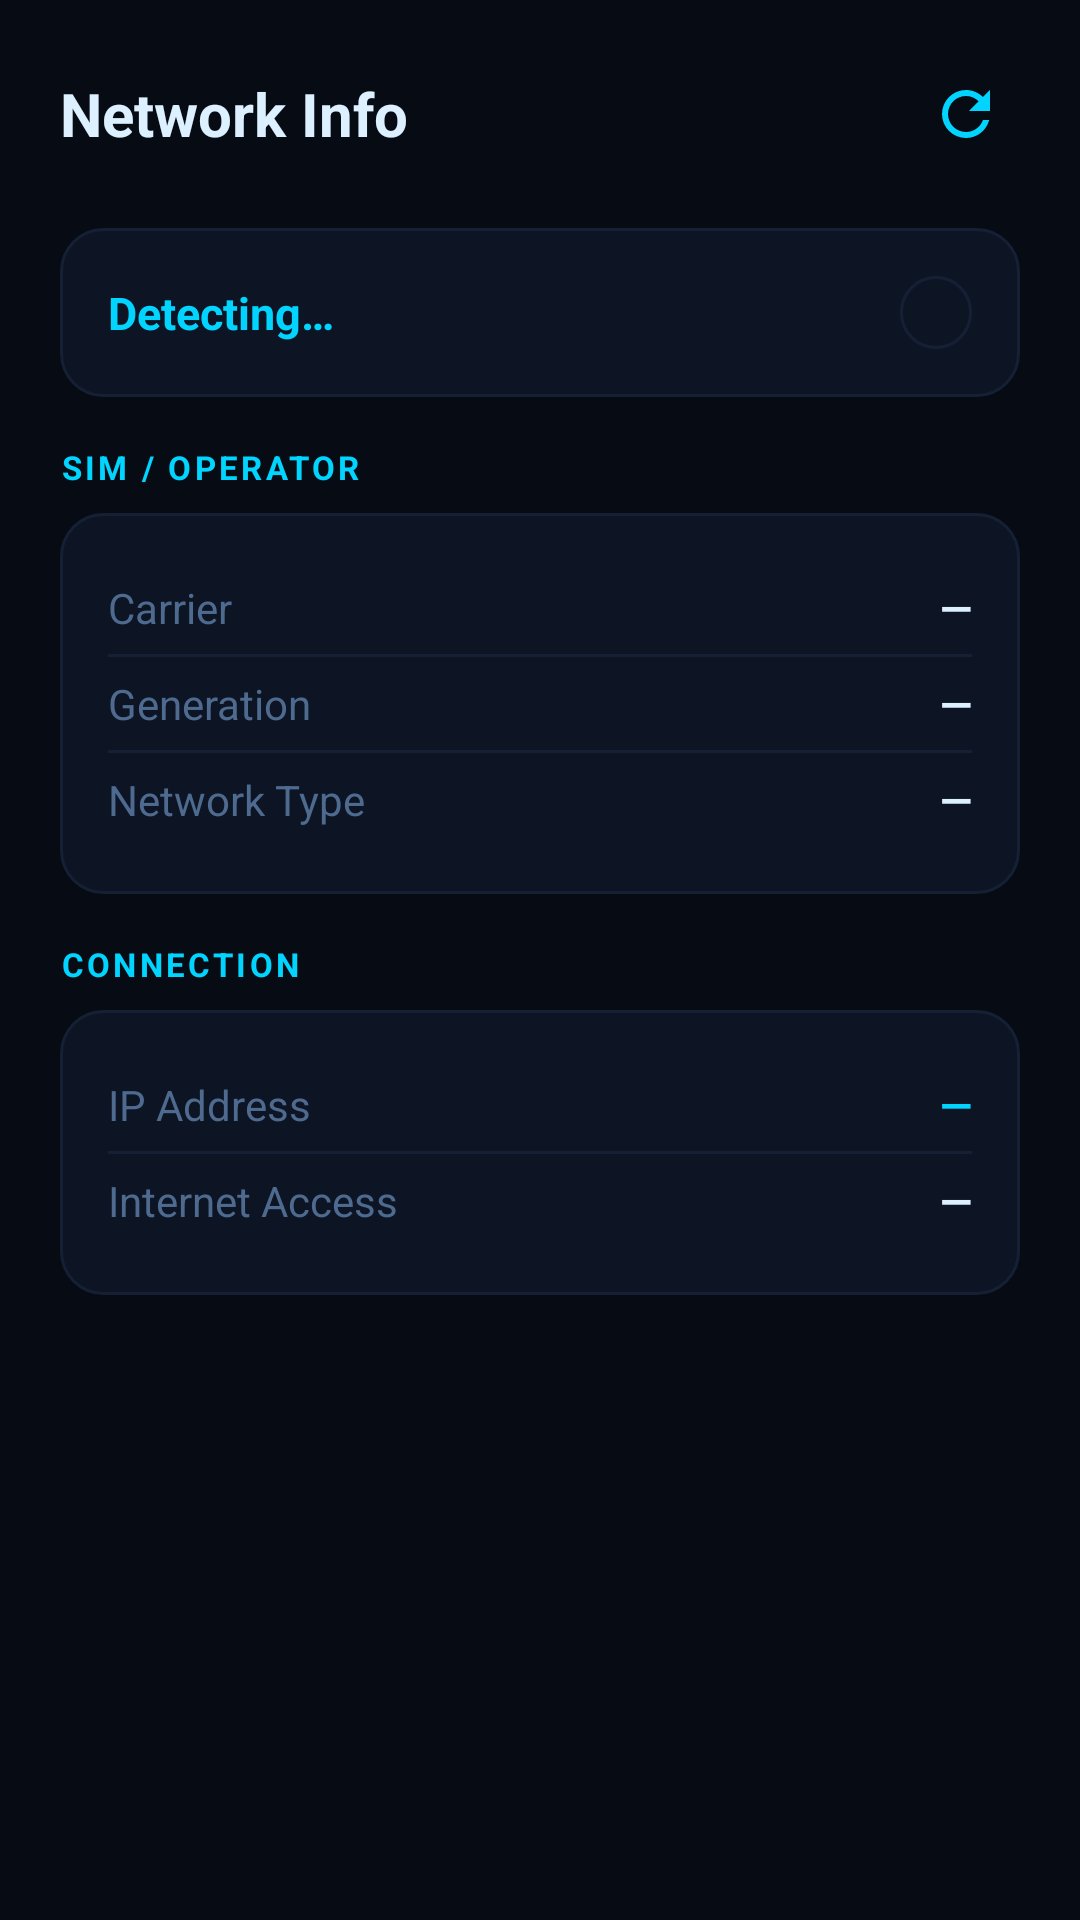

Icon click points for this 1080w x 1920h phone screenshot, format (x=x, y=y):
Refresh: (x=966, y=114)
